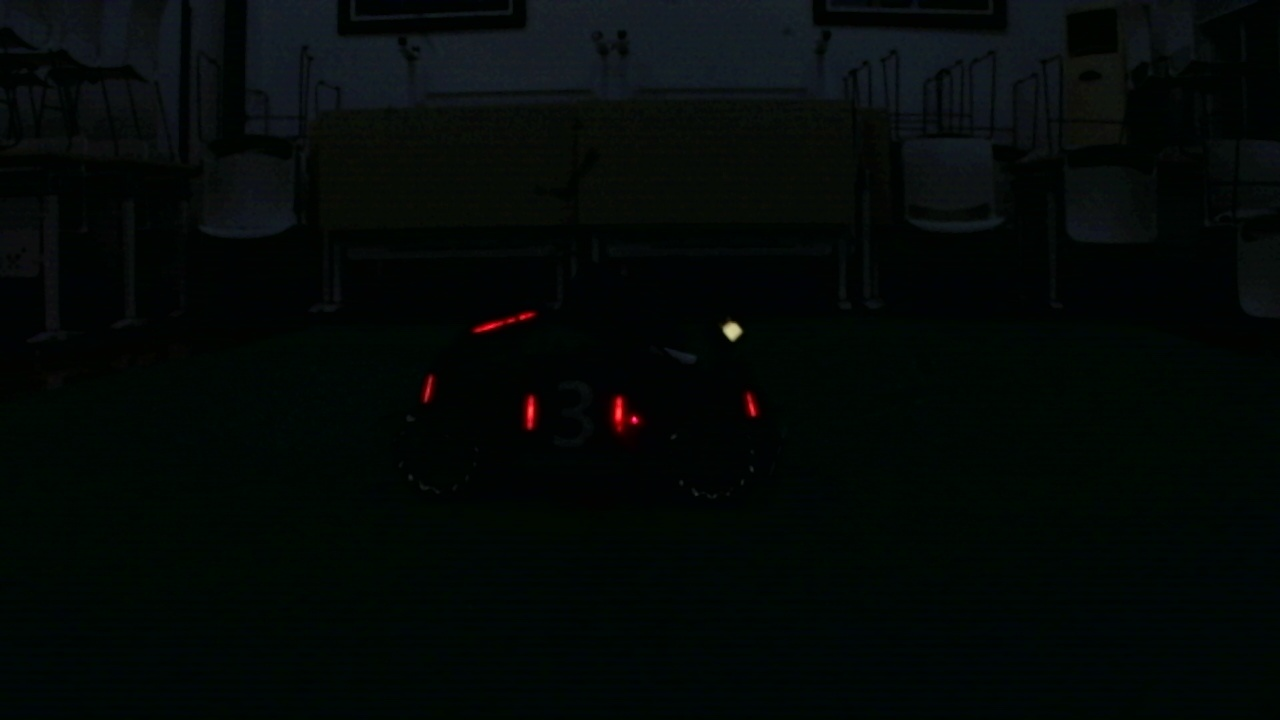lamp: (740, 383, 756, 419), (611, 393, 624, 430), (525, 395, 537, 431), (421, 370, 432, 406)
pair1: (524, 394, 627, 427)
